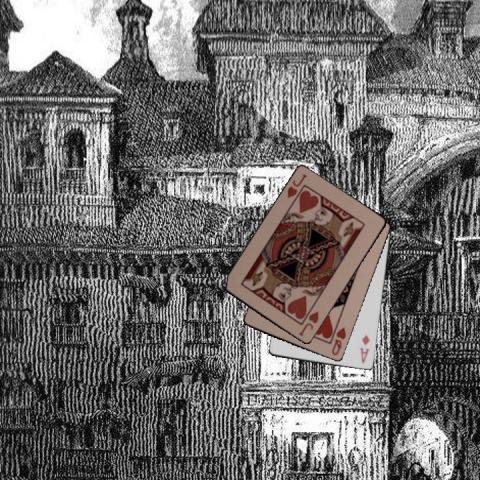Ad: (358, 332, 372, 365)
Jh: (284, 172, 309, 200), (296, 309, 320, 338)
Qh: (329, 324, 347, 356)
